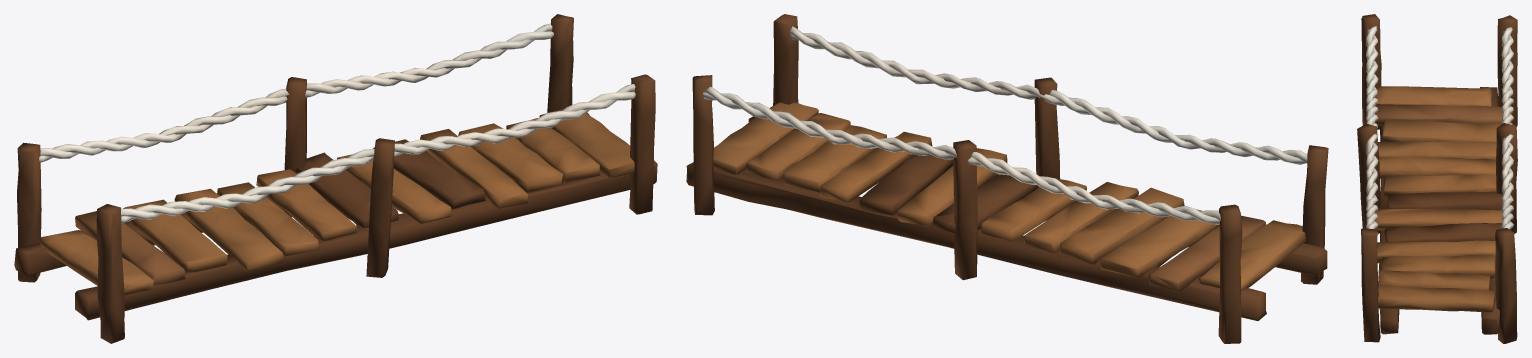
File: glade_bridge_planks_lod1.glb
3 views of the same model, side by side, from view 1: azimuth 30°, elevation 25°; view 2: azimuth 150°, elevation 25°; view 3: azimuth 270°, elevation 25° (orthographic). The views are drawn at different scales.
Visible parts, largest first — view 1: glade_bridge_planks.001; view 2: glade_bridge_planks.001; view 3: glade_bridge_planks.001.
Boxes of the visible parts, x1=… form: glade_bridge_planks.001: x1=14, y1=14, x2=657, y2=343; glade_bridge_planks.001: x1=686, y1=14, x2=1328, y2=343; glade_bridge_planks.001: x1=1357, y1=14, x2=1517, y2=343.
Bounding box in the file's own units: 10.84 × 2.41 × 3.2.
